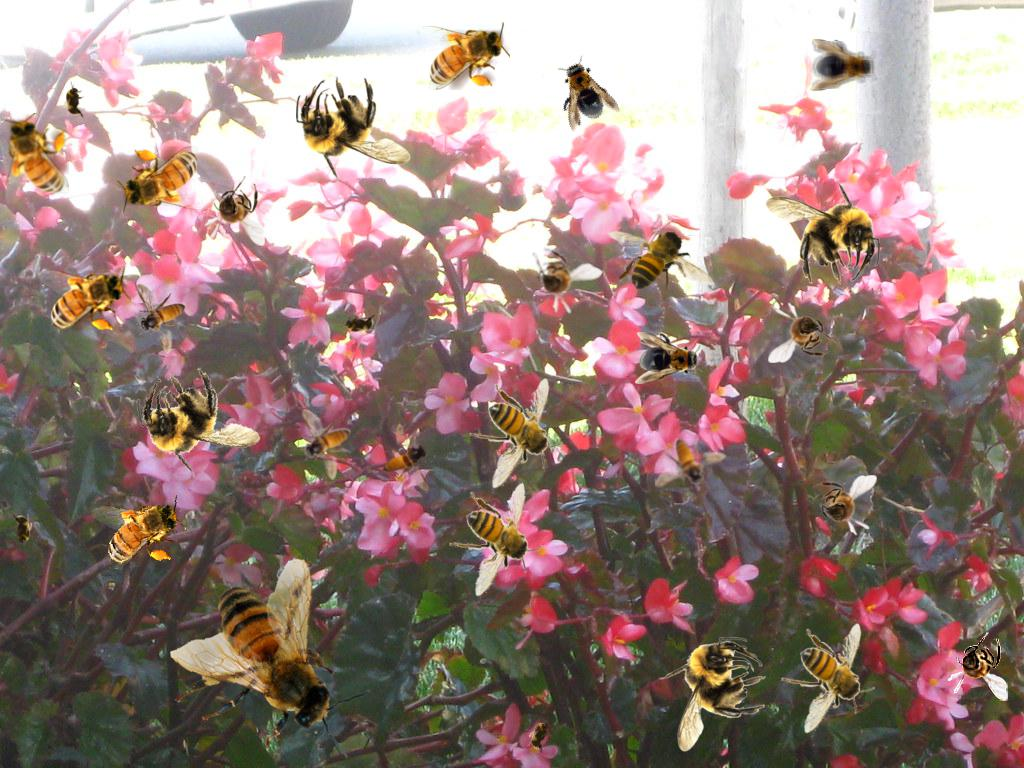Bee: (164, 553, 377, 768), (131, 357, 266, 486), (765, 178, 880, 285), (659, 637, 766, 752), (296, 76, 411, 183), (444, 481, 547, 599), (606, 216, 717, 310), (781, 623, 875, 734), (469, 378, 563, 489), (512, 236, 605, 324), (90, 493, 190, 572), (545, 50, 621, 134), (38, 266, 131, 334), (417, 22, 510, 90), (1, 113, 69, 206), (117, 146, 210, 214), (947, 631, 1008, 701), (768, 302, 838, 363), (204, 176, 265, 246), (807, 475, 877, 536), (301, 409, 351, 480), (136, 283, 186, 354), (381, 422, 431, 493), (655, 438, 726, 488), (810, 39, 878, 91), (635, 332, 703, 384), (521, 712, 561, 758), (63, 81, 85, 121), (339, 313, 379, 335), (11, 510, 33, 550)
